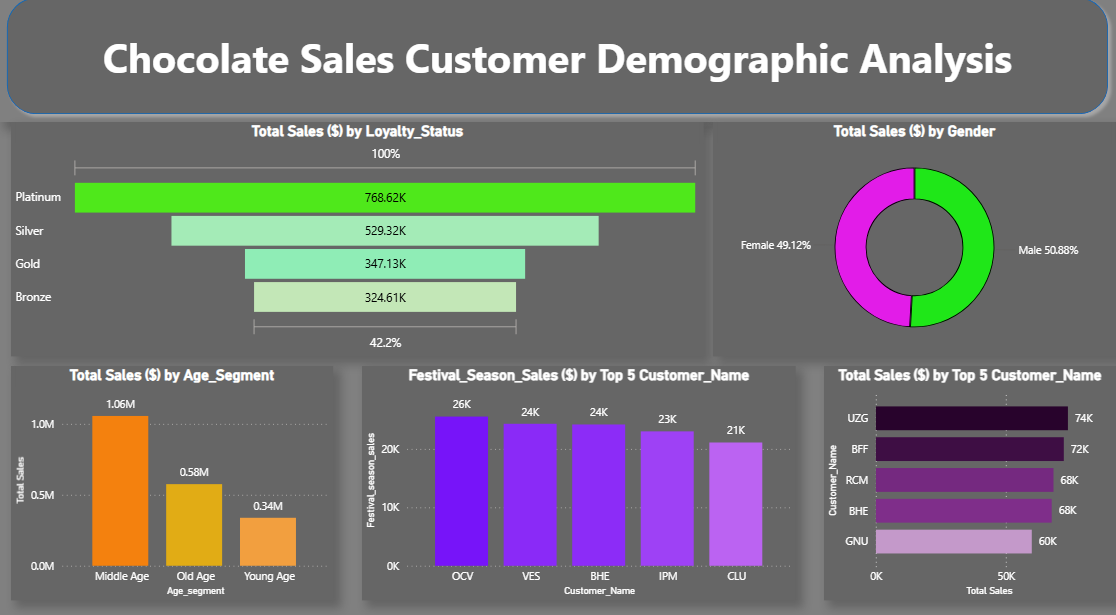

The dashboard page shown, as its layout file describes it:
{"tool":"powerbi","page":{"name":"Customer Demographics","canvas":[1280,720],"ordinal":1},"visuals":[{"type":"shape","box":[0,0,1272.5,150.4],"z":0},{"type":"funnel","title":"Total Sales ($) by Loyalty_Status","fields":{"Category":["customer_dimension.Loyalty_Status"],"Y":["#Measures.Total Sales"]},"box":[13.7,150.4,789.5,266.6],"z":1000},{"type":"donutChart","title":"Total Sales ($) by Gender","fields":{"Category":["customer_dimension.Gender"],"Y":["#Measures.Total Sales"]},"box":[813.4,150.4,459.1,266.6],"z":2000},{"type":"clusteredColumnChart","title":"Total Sales ($) by Age_Segment","fields":{"Y":["#Measures.Total Sales"],"Category":["customer_dimension.Age_segment"]},"box":[13.7,428.4,366.8,266.6],"z":3000},{"type":"clusteredColumnChart","title":"Festival_Season_Sales ($) by Top 5 Customer_Name","fields":{"Y":["#Measures.Festival_season_sales"],"Category":["customer_dimension.Customer_Name"]},"box":[413.5,428.4,494.4,266.6],"z":4000},{"type":"clusteredBarChart","title":"Total Sales ($) by Top 5 Customer_Name","fields":{"Category":["customer_dimension.Customer_Name"],"Y":["#Measures.Total Sales"]},"box":[939.9,428.4,332.7,266.6],"z":5000}]}

Visuals, with their boxes in screenshot pixels (x1, y1, x2, y2), scaled from the page's 1280x720 canvas onto the 1116x615 screenshot:
shape: left=0, top=0, right=1109, bottom=128
"Total Sales ($) by Loyalty_Status" funnel: left=12, top=128, right=700, bottom=356
"Total Sales ($) by Gender" donutChart: left=709, top=128, right=1109, bottom=356
"Total Sales ($) by Age_Segment" clusteredColumnChart: left=12, top=366, right=332, bottom=594
"Festival_Season_Sales ($) by Top 5 Customer_Name" clusteredColumnChart: left=361, top=366, right=792, bottom=594
"Total Sales ($) by Top 5 Customer_Name" clusteredBarChart: left=819, top=366, right=1110, bottom=594
